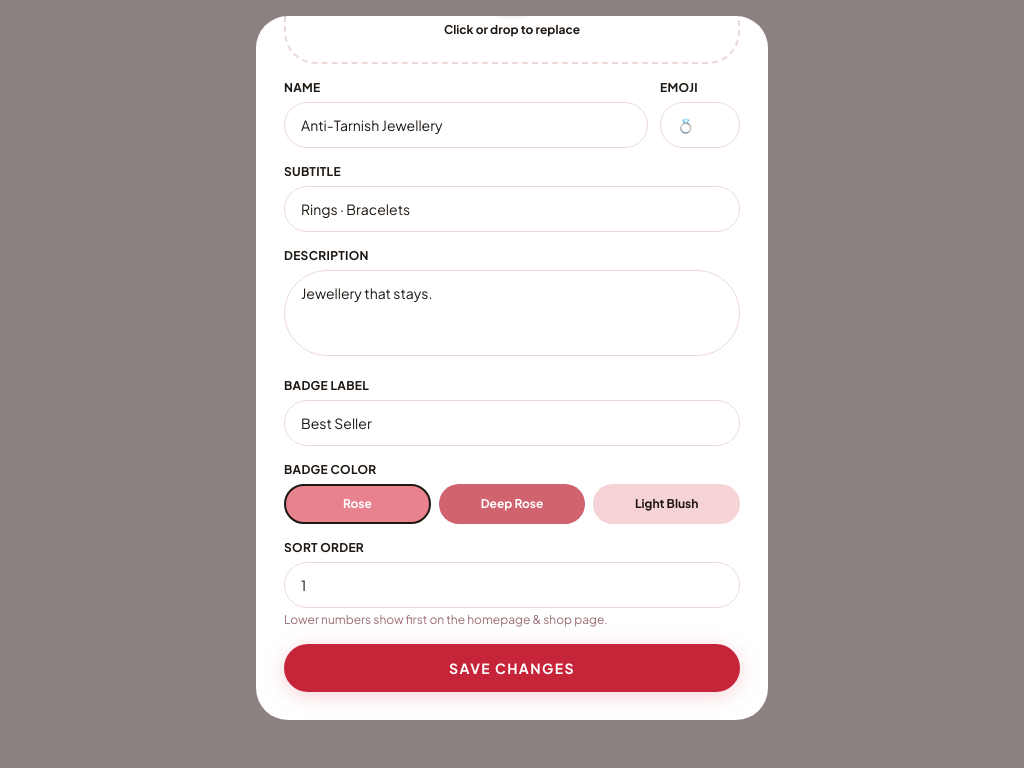
CategoryFormModal › shows the thrown error message and does not close on failure
The width and height of the screenshot is (1024, 768).
(page scrolled)
Click the button "Save Changes": (512, 668) [284,644,740,692]
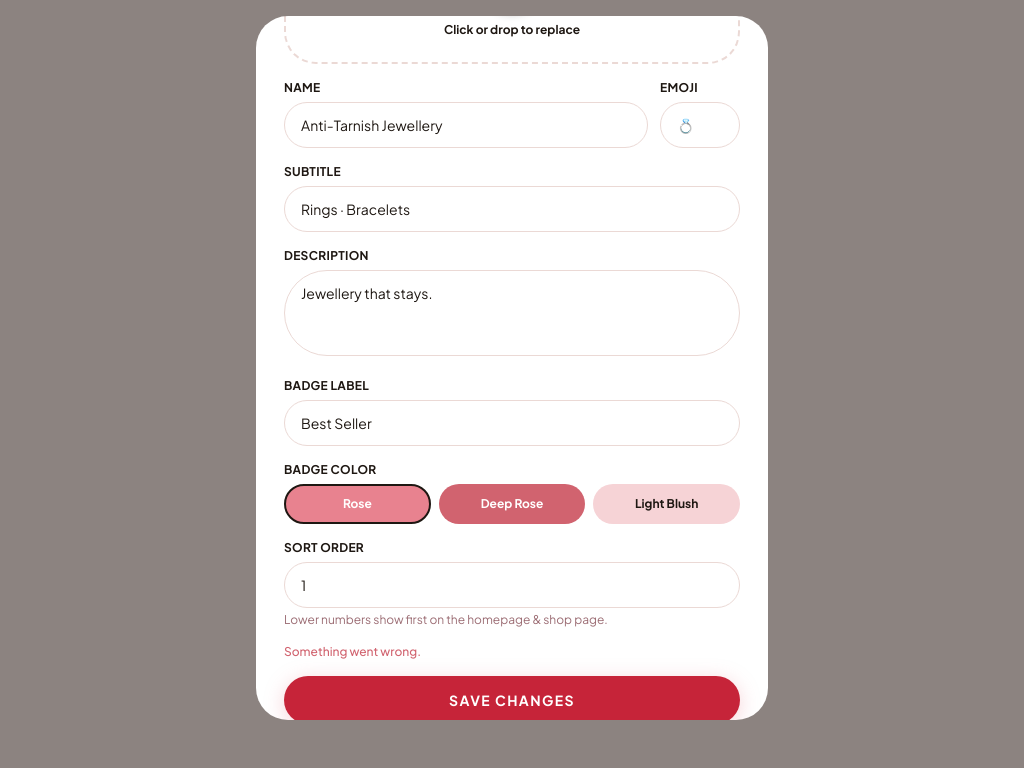
Check: the text "Something went wrong." is shown, box [284,644,421,659]
